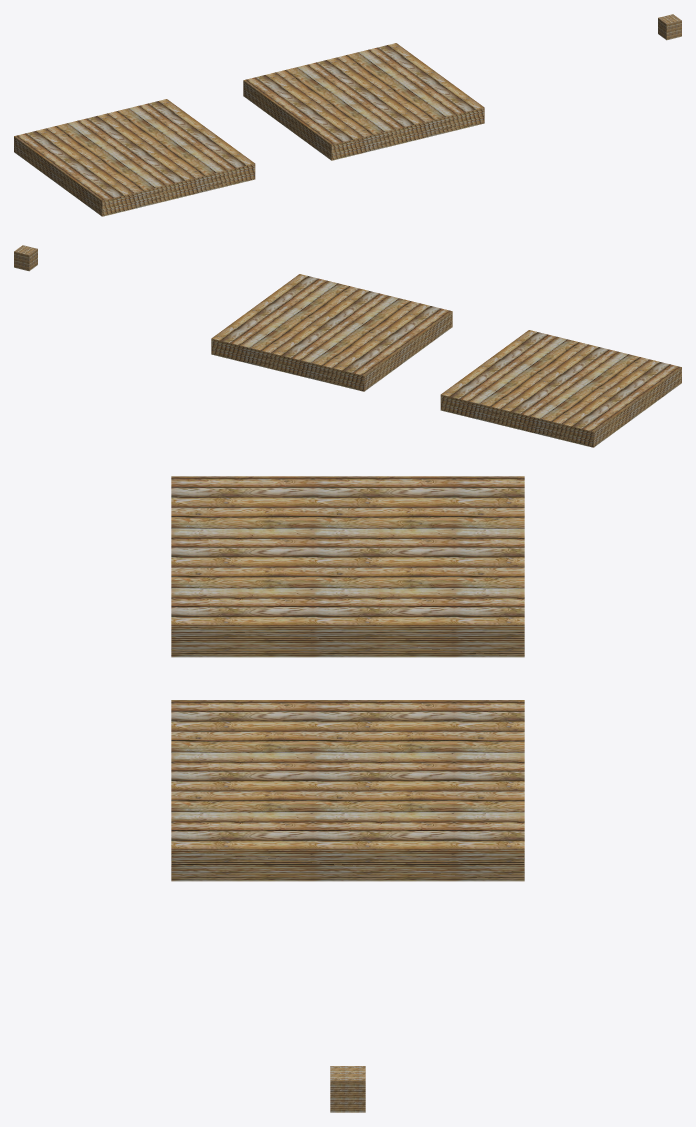
Rendered from normal_maps_scaled_object.glb.
3 views of the same model, one above another, from view 1: azimuth 30°, elevation 25°; view 2: azimuth 150°, elevation 25°; view 3: azimuth 270°, elevation 25° (orthographic). The views are drawn at different scales.
Visible parts, largest first — view 1: CubeNotScaled, CubeScaled, CubeScaledAllDims; view 2: CubeNotScaled, CubeScaled, CubeScaledAllDims; view 3: CubeScaled, CubeNotScaled, CubeScaledAllDims.
Boxes of the visible parts, x1,y1,x2,y2 form: CubeNotScaled: (243,43,484,160); CubeScaled: (14,99,255,216); CubeScaledAllDims: (658,14,681,40); CubeNotScaled: (211,274,452,391); CubeScaled: (440,330,681,447); CubeScaledAllDims: (14,245,37,271); CubeScaled: (171,476,524,657); CubeNotScaled: (171,700,524,881); CubeScaledAllDims: (330,1066,365,1112).
Bounding box in the file's own units: 8.1 × 0.2 × 2.
Materials: 3 (3 with a texture image).
